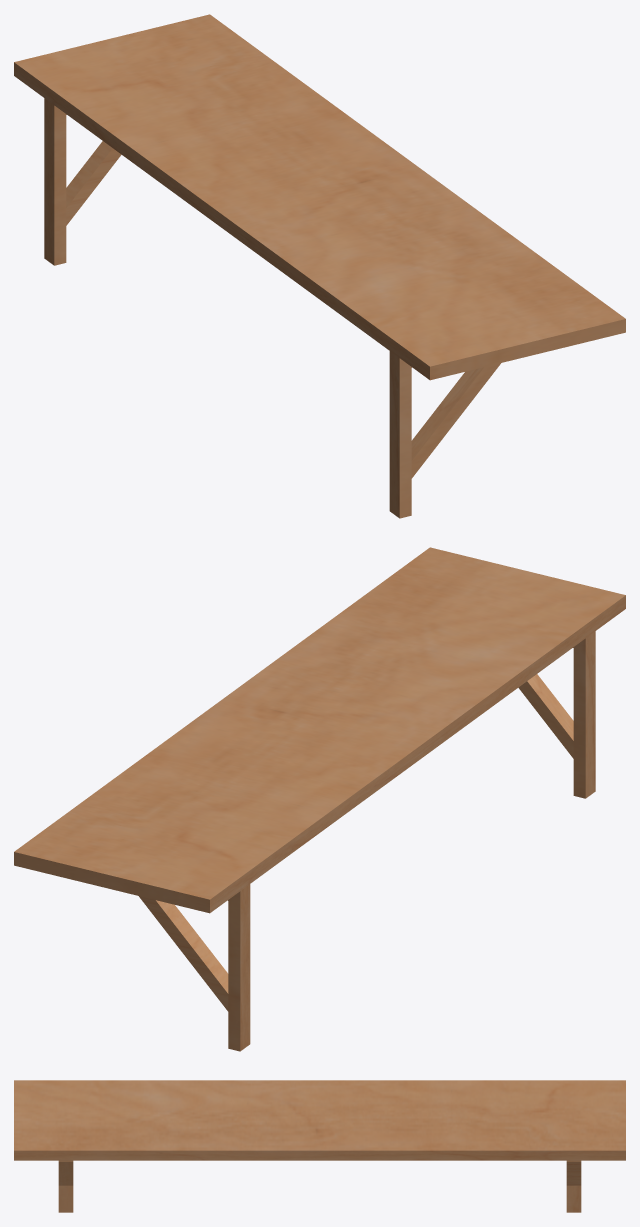
Rendered from prateleira.fbx.
3 renders of one model, top to bottom at view 1: azimuth 30°, elevation 25°; view 2: azimuth 150°, elevation 25°; view 3: azimuth 270°, elevation 25°, orthographic. The views are drawn at different scales.
Parts seen in each view (by area): view 1: prateleira; view 2: prateleira; view 3: prateleira.
Boxes of the visible parts, x1,y1,x2,y2 form: prateleira: [14, 14, 625, 518]; prateleira: [14, 547, 625, 1051]; prateleira: [14, 1080, 625, 1212].
Bounding box in the file's own units: 30 × 25.47 × 110.
